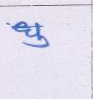u_matra: (21, 35, 52, 49)
